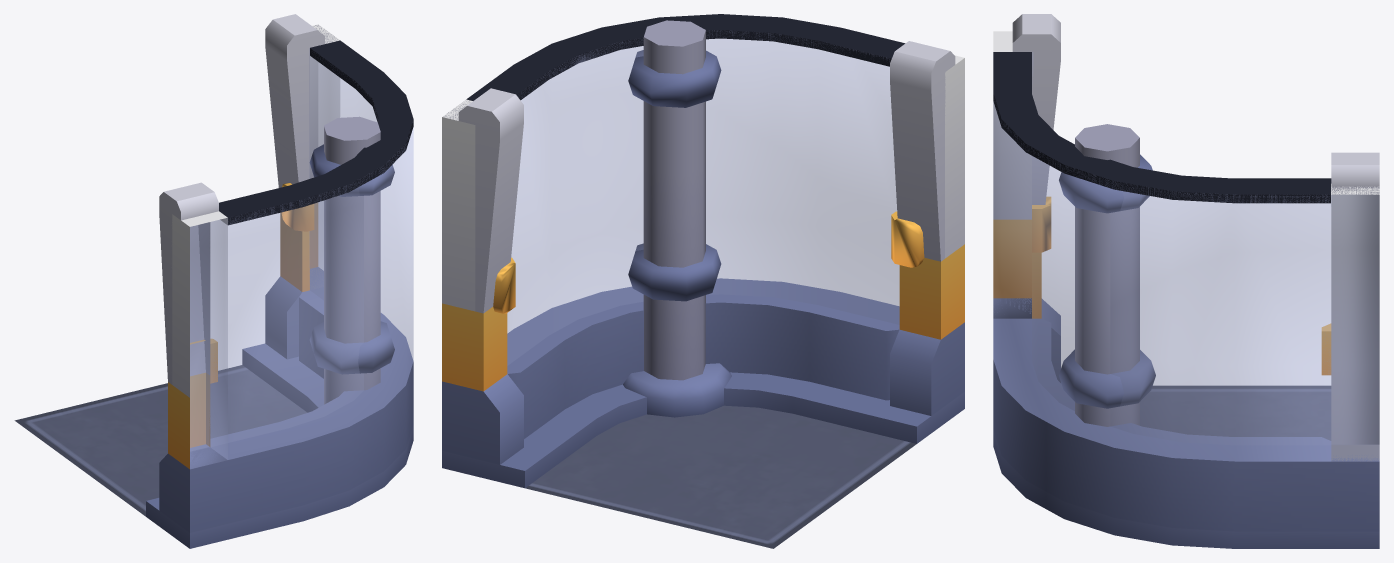
File: wall corner.glb
3 views of the same model, side by side, from view 1: azimuth 30°, elevation 25°; view 2: azimuth 150°, elevation 25°; view 3: azimuth 270°, elevation 25° (orthographic). The views are drawn at different scales.
Visible parts, largest first — view 1: template-corner.001; view 2: template-corner.001; view 3: template-corner.001.
Part boxes in pixels (bbox=[...]): template-corner.001: bbox=[14, 14, 413, 548]; template-corner.001: bbox=[442, 14, 964, 548]; template-corner.001: bbox=[993, 14, 1379, 548].
Bounding box in the file's own units: 4 × 4.25 × 4.
3 materials, 1 textured.
